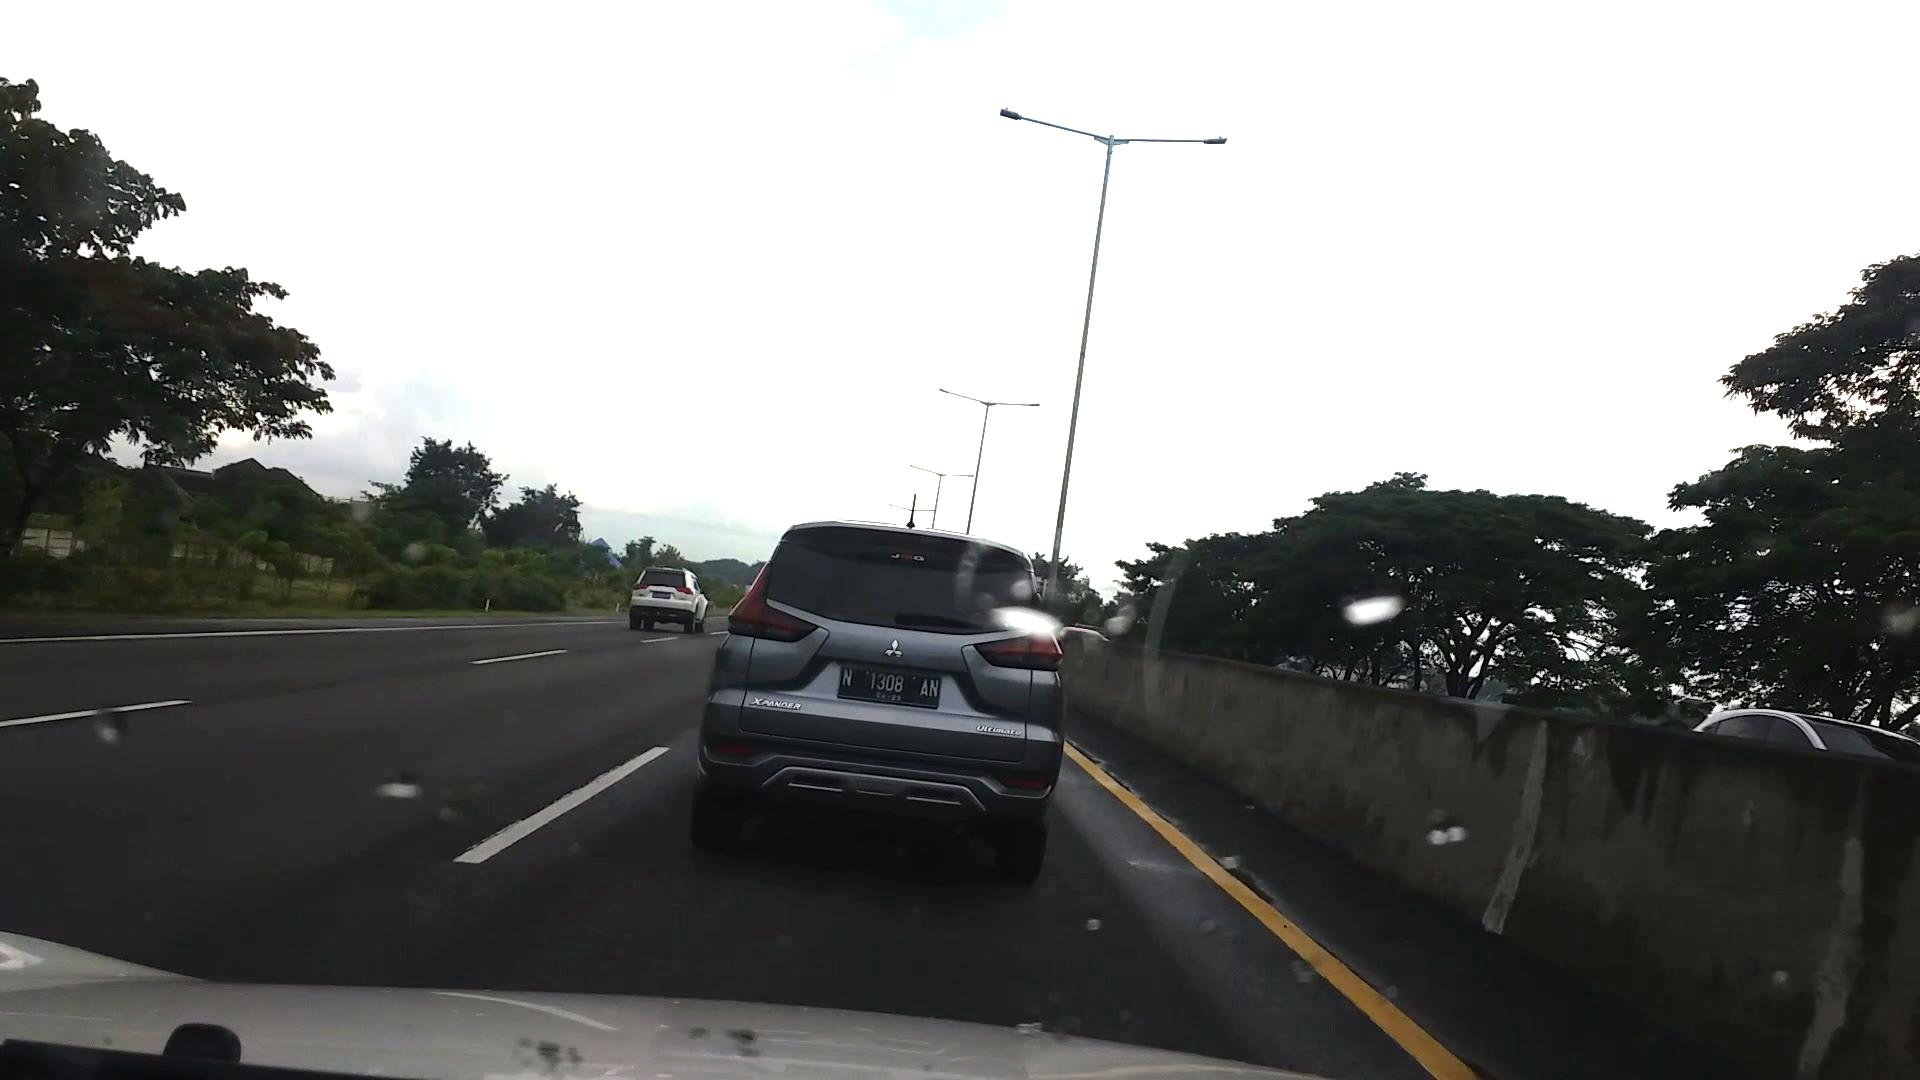plate_positive: (839, 666, 942, 704)
